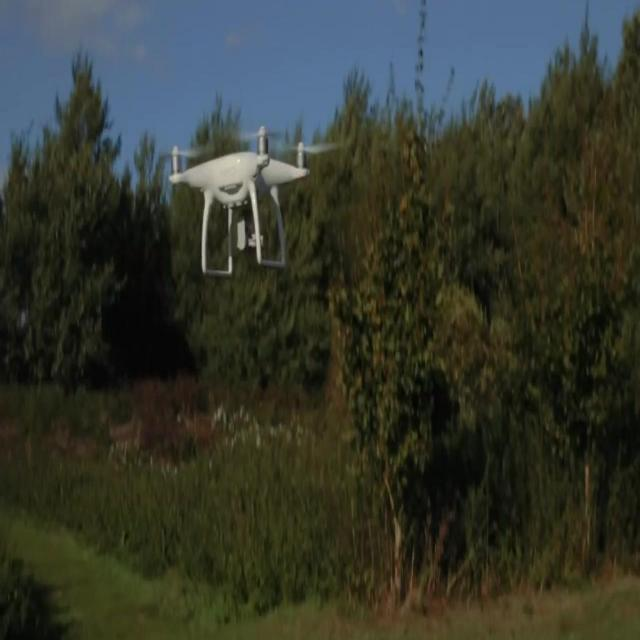UAV: (159, 125, 343, 276)
